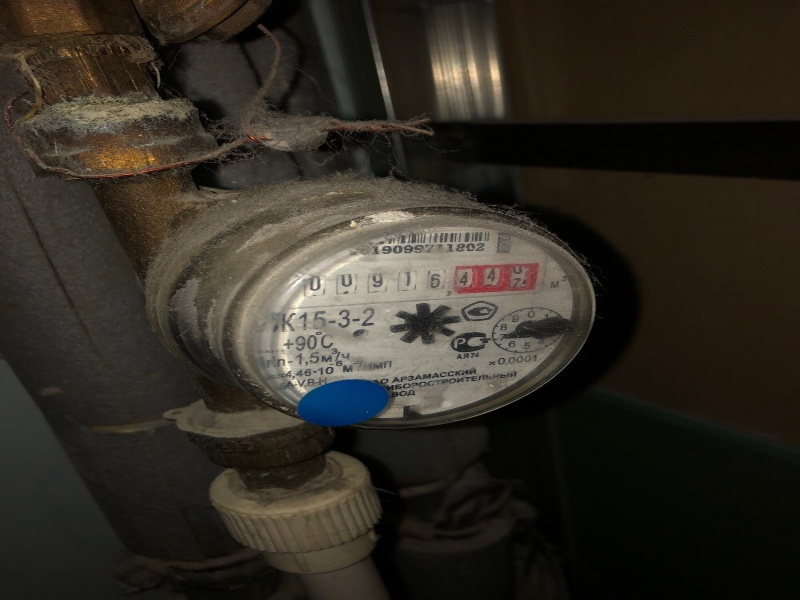meter: (292, 262, 529, 295)
